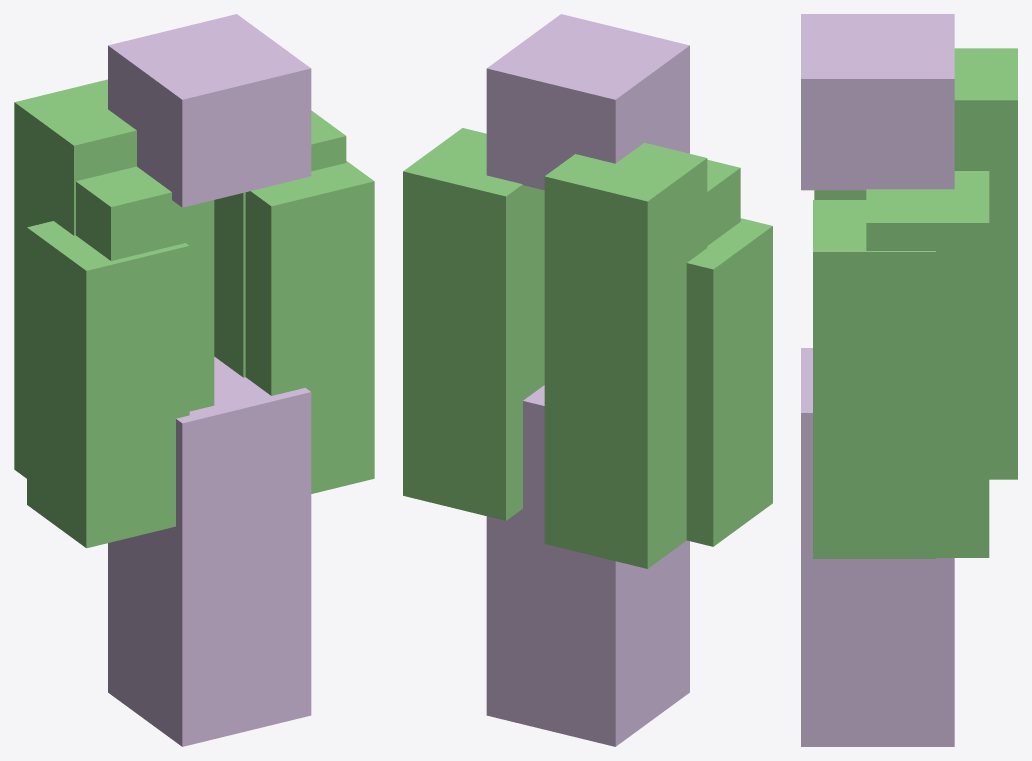
The model's file is Item_Herb_AMF_Snoutsage_Bundle4.glb.
3 views of the same model, side by side, from view 1: azimuth 30°, elevation 25°; view 2: azimuth 150°, elevation 25°; view 3: azimuth 270°, elevation 25° (orthographic). The views are drawn at different scales.
Parts seen in each view (by area): view 1: Item_Herb_AMF_Snoutsage_Bundle4; view 2: Item_Herb_AMF_Snoutsage_Bundle4; view 3: Item_Herb_AMF_Snoutsage_Bundle4.
Part boxes in pixels (bbox=[...]): Item_Herb_AMF_Snoutsage_Bundle4: bbox=[14, 14, 374, 746]; Item_Herb_AMF_Snoutsage_Bundle4: bbox=[403, 14, 772, 746]; Item_Herb_AMF_Snoutsage_Bundle4: bbox=[801, 14, 1017, 746].
Bounding box in the file's own units: 0.1115 × 0.24 × 0.0706.
